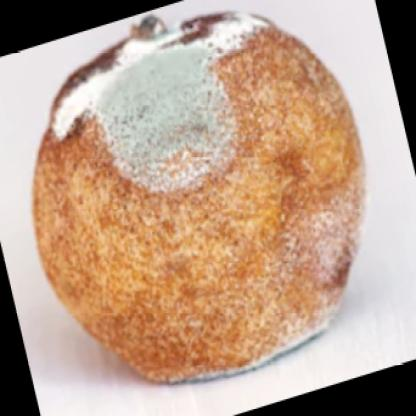rotten: (36, 17, 366, 385)
